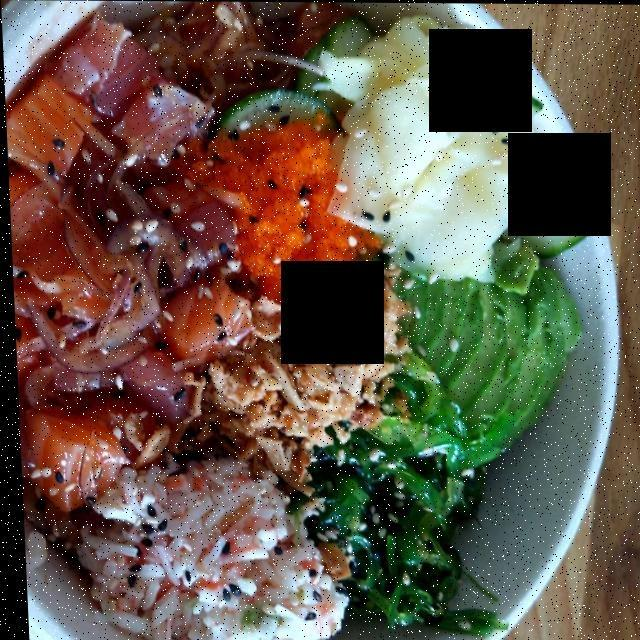avocado: (385, 254, 571, 464)
cucumber: (224, 27, 367, 134)
rice: (72, 459, 342, 637)
salmon: (14, 27, 227, 504)
tuna: (201, 273, 398, 498)
